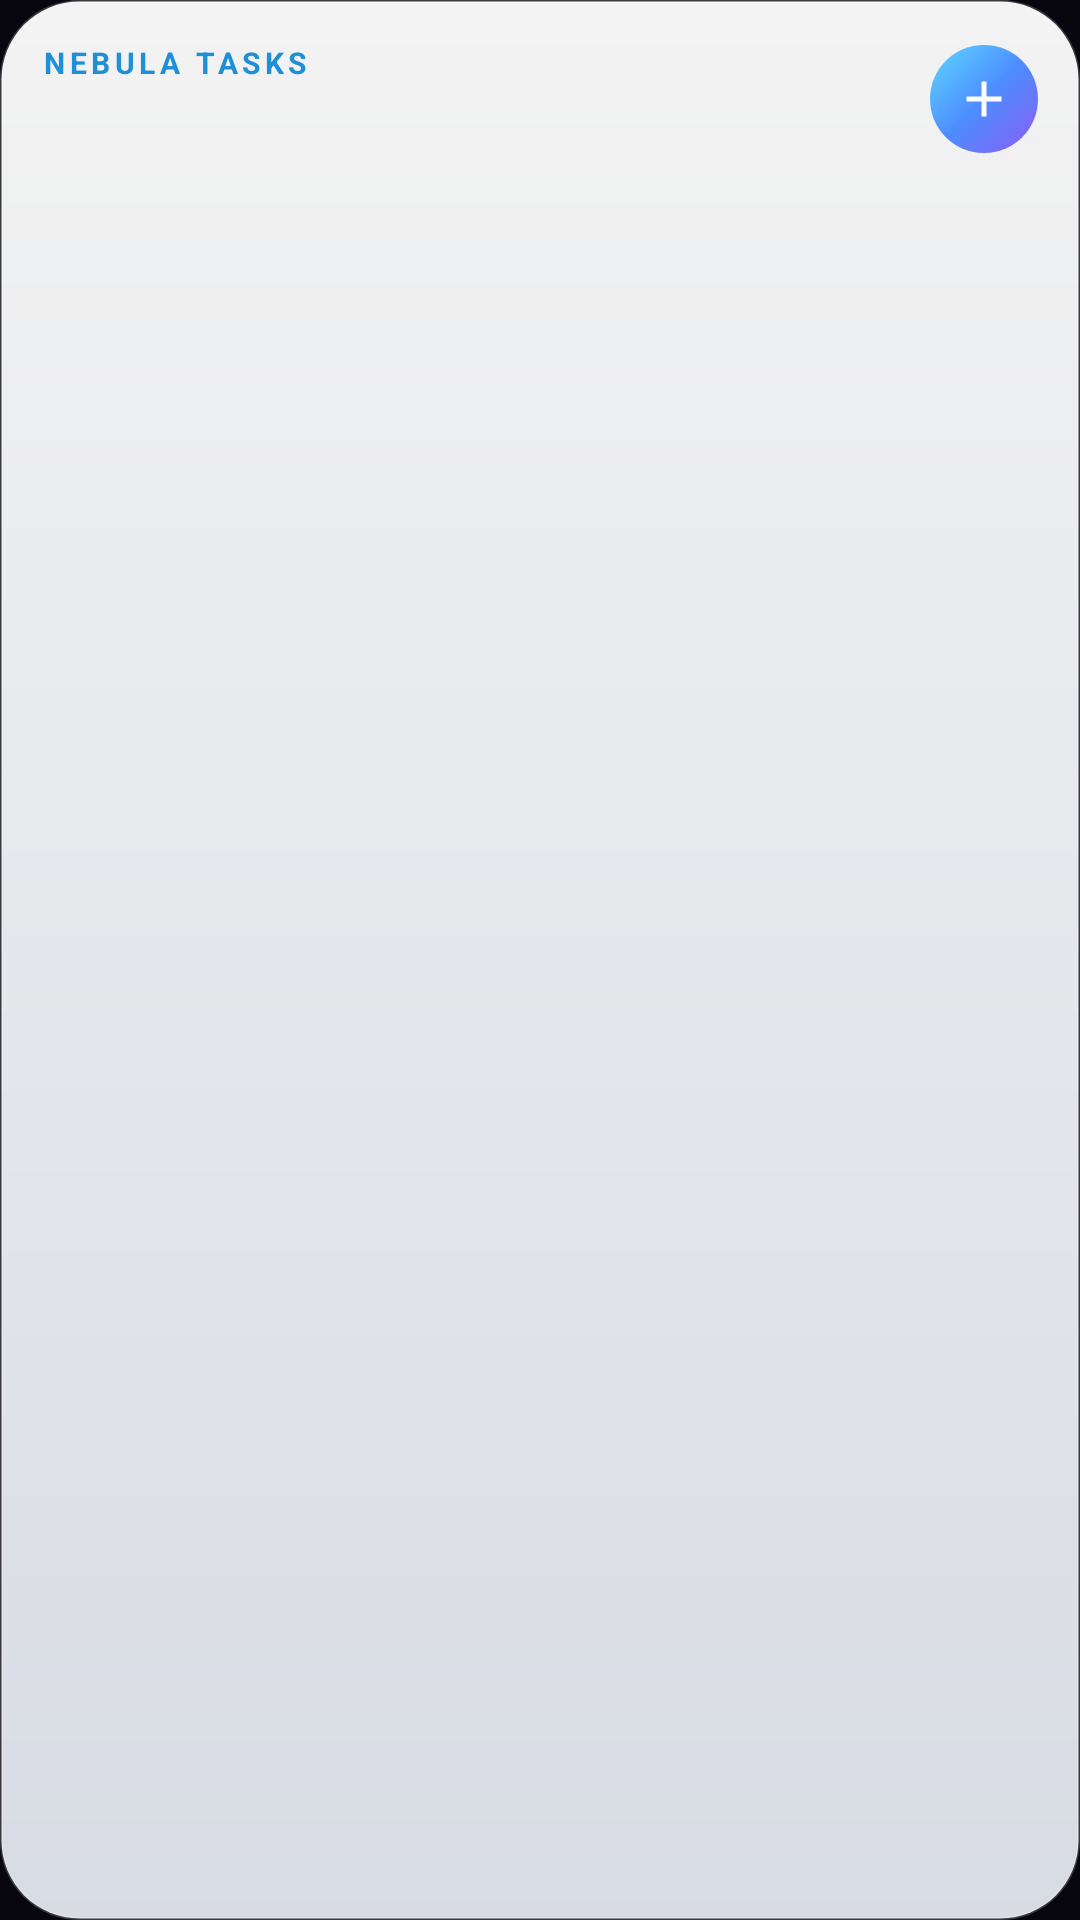

Where to tap for icons on this 1080px x 1920px app screen, as point (x, y):
Add a reminder: point (984, 99)
